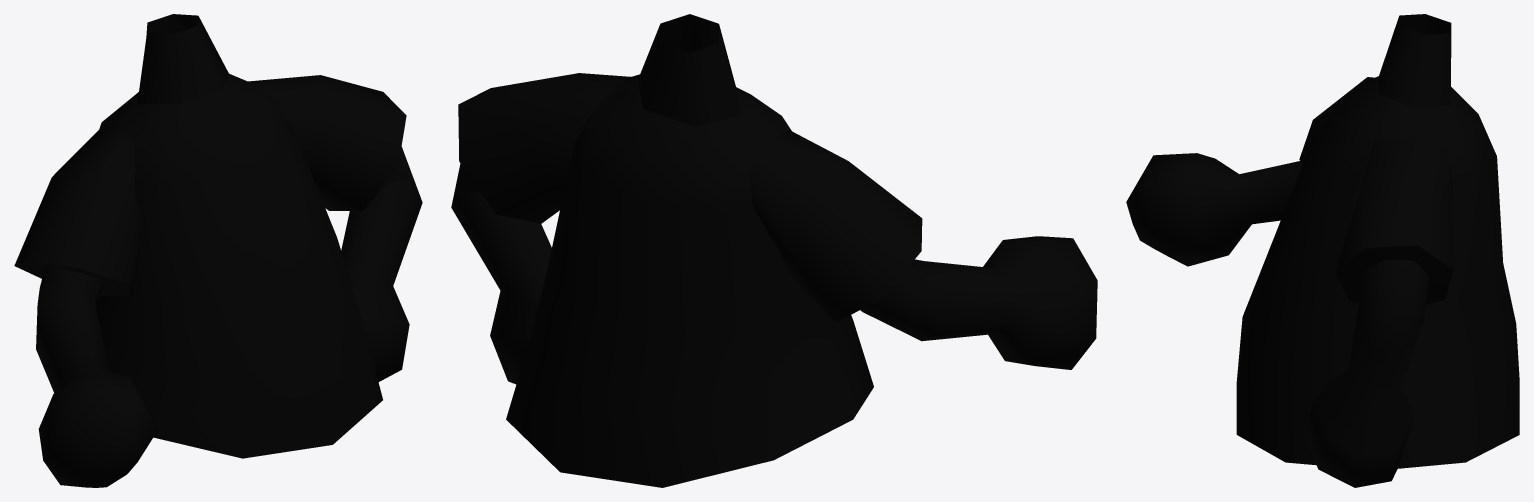
Rendered from tops_shtH_nml.dae.
The picture shows the model from 3 angles, left to right: view 1: azimuth 30°, elevation 25°; view 2: azimuth 150°, elevation 25°; view 3: azimuth 270°, elevation 25°; orthographic projection. The views are drawn at different scales.
Parts seen in each view (by area): view 1: tops_shtH_nml; view 2: tops_shtH_nml; view 3: tops_shtH_nml.
Boxes of the visible parts, x1,y1,x2,y2 form: tops_shtH_nml: (14,14,422,487); tops_shtH_nml: (451,14,1097,487); tops_shtH_nml: (1126,14,1519,487).
Size of the model in its own units: 21.71 by 16.96 by 15.52.
1 material, 1 textured.
